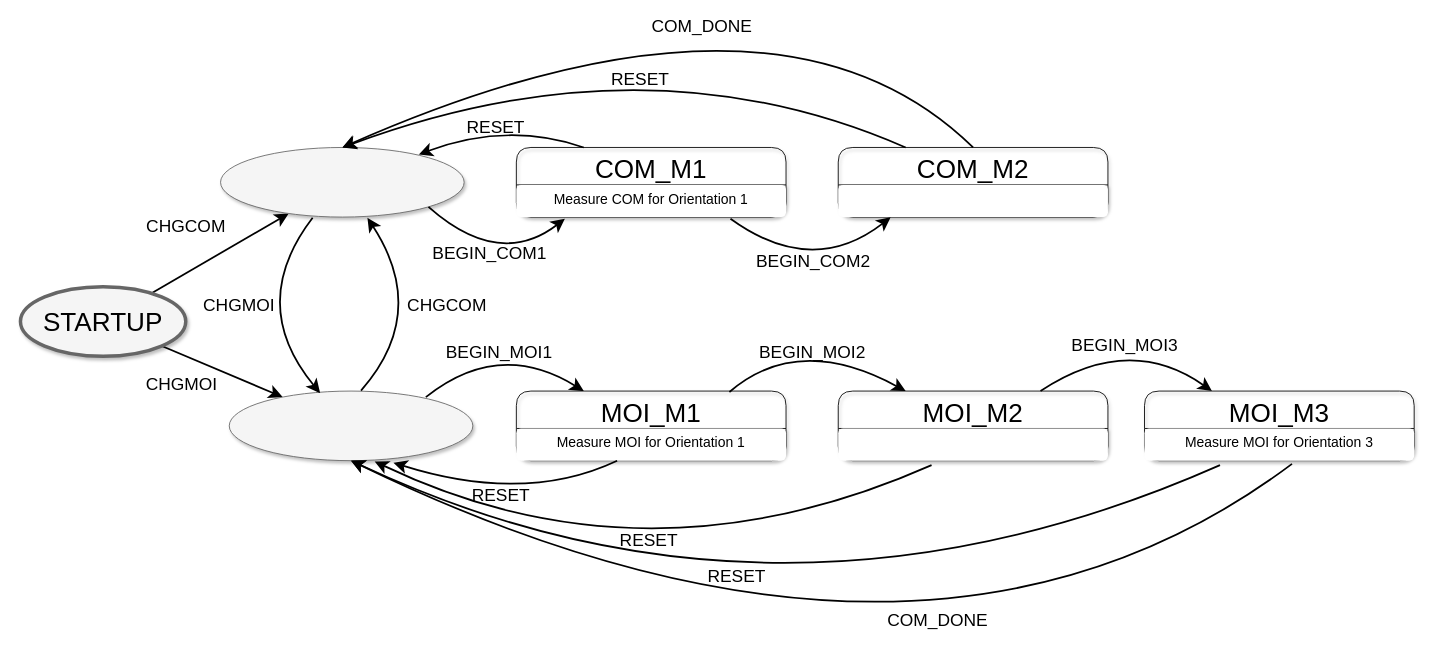
This 1435x645 diagram has some shape labels left out. Each missing label, with the centre of its shape:
"COM_STANDBY" belongs at (342,183).
"Measure COM for Orientation 2" belongs at (973,200).
"Measure MOI for Orientation 2" belongs at (973,444).
"MOI_STANDBY" belongs at (351,427).
